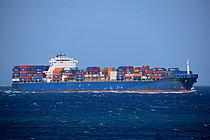Ship: (9, 47, 203, 95)
